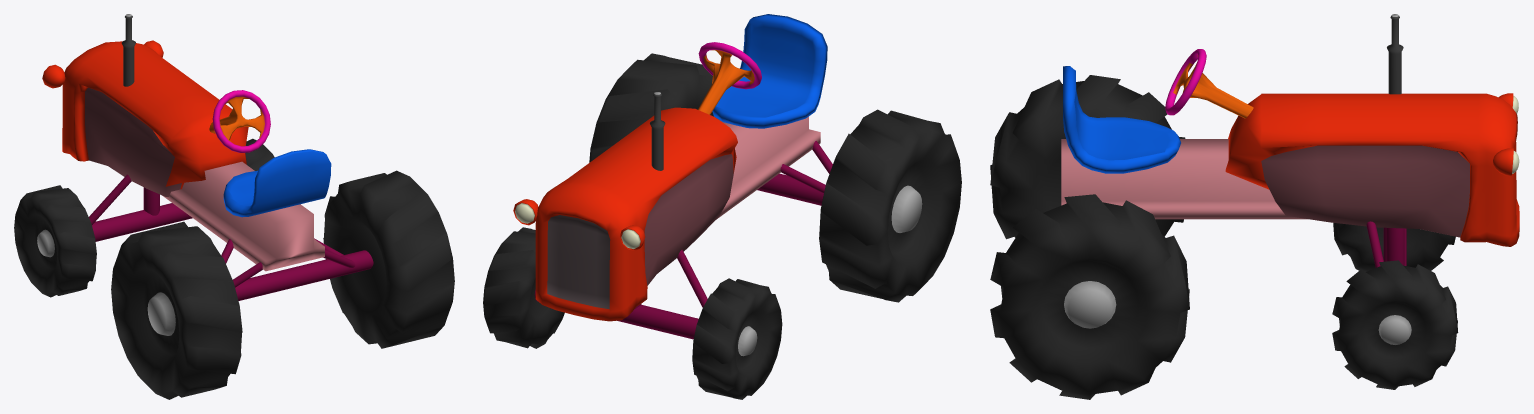
The model's file is MOD_Tractor.fbx.
3 renders of one model, left to right at view 1: azimuth 30°, elevation 25°; view 2: azimuth 150°, elevation 25°; view 3: azimuth 270°, elevation 25°, orthographic. The views are drawn at different scales.
Parts seen in each view (by area): view 1: Tractor; view 2: Tractor; view 3: Tractor.
Part boxes in pixels (x1=…): Tractor: x1=14, y1=14, x2=454, y2=399; Tractor: x1=483, y1=14, x2=961, y2=399; Tractor: x1=990, y1=14, x2=1519, y2=399.
Size of the model in its own units: 4.18 by 3.86 by 6.19.
